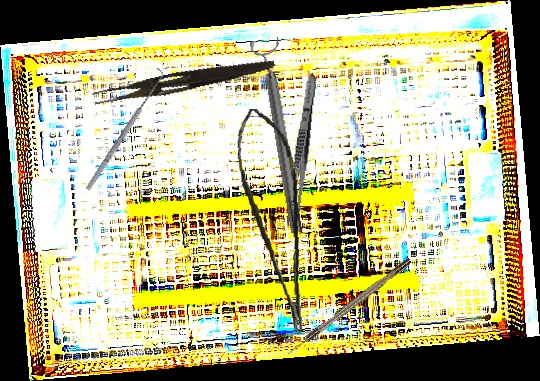Dressing Forceps: (92, 50, 276, 112), (285, 71, 320, 229)
Fixation Ring: (248, 36, 312, 236)
Hook Surgical: (285, 257, 413, 357), (80, 67, 168, 192)
Micro Scissor: (232, 105, 311, 337)
